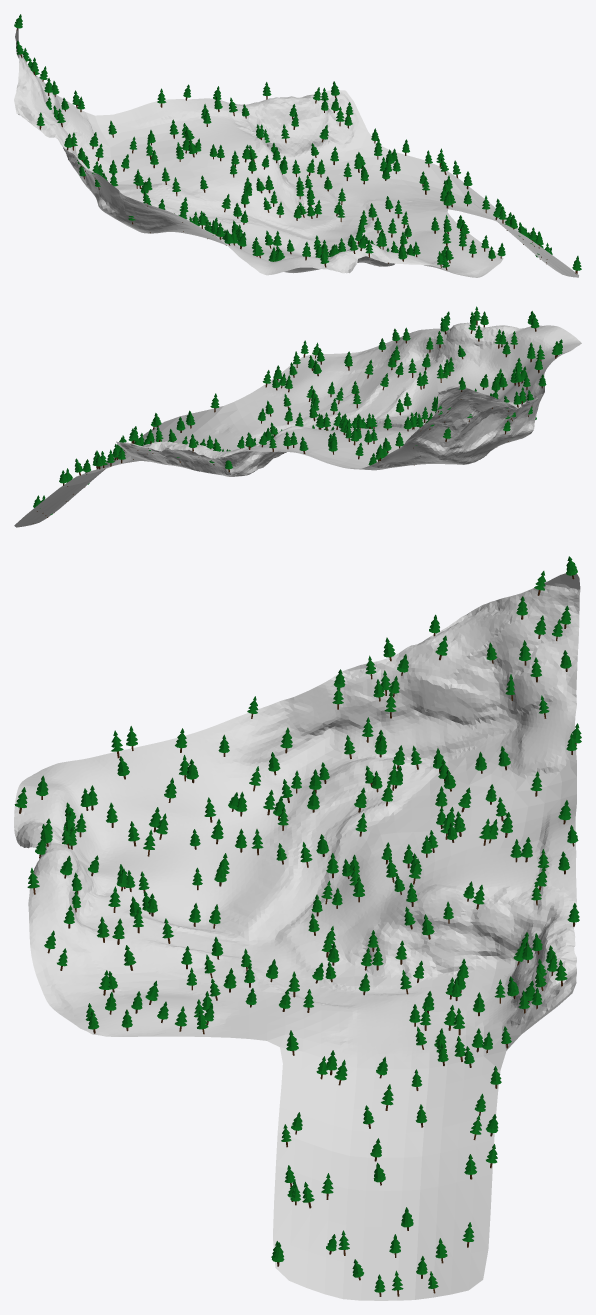
Rendered from level_done_badTopo.fbx.
The picture shows the model from 3 angles, top to bottom: view 1: azimuth 30°, elevation 25°; view 2: azimuth 150°, elevation 25°; view 3: azimuth 270°, elevation 25°; orthographic projection. The views are drawn at different scales.
Parts seen in each view (by area): view 1: Cube.006; view 2: Cube.006; view 3: Cube.006.
Part boxes in pixels (x1,y1,x2,y2): Cube.006: (14, 28, 578, 277); Cube.006: (14, 322, 581, 527); Cube.006: (14, 571, 580, 1300).
Bounding box in the file's own units: 29435 × 17480 × 20720.
